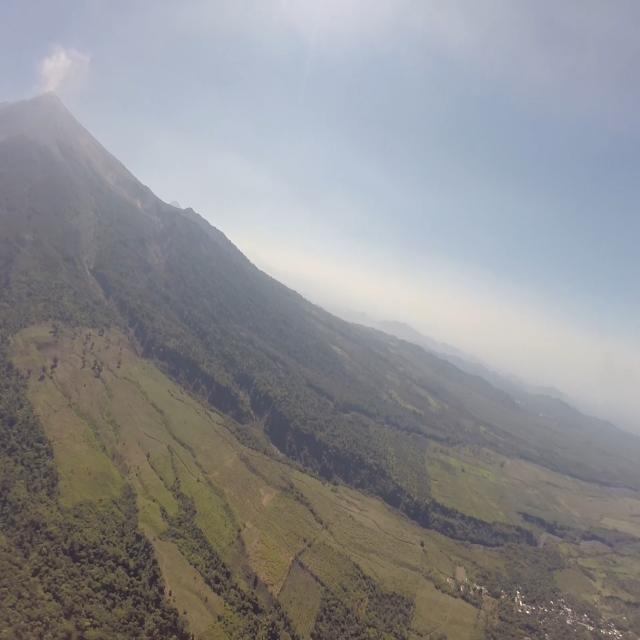Plume: (38, 44, 83, 92)
Summit: (31, 84, 68, 108)
